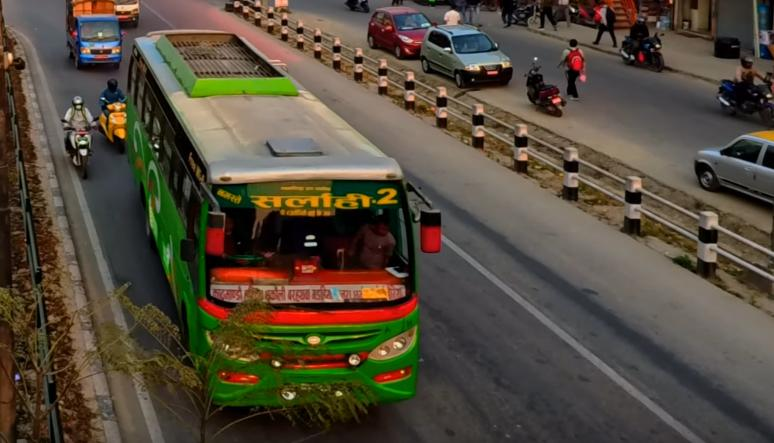bike: (66, 109, 101, 178)
bus: (111, 14, 430, 412)
car: (689, 124, 774, 207), (424, 19, 519, 89)
scooter: (522, 62, 568, 119), (96, 89, 133, 153)
